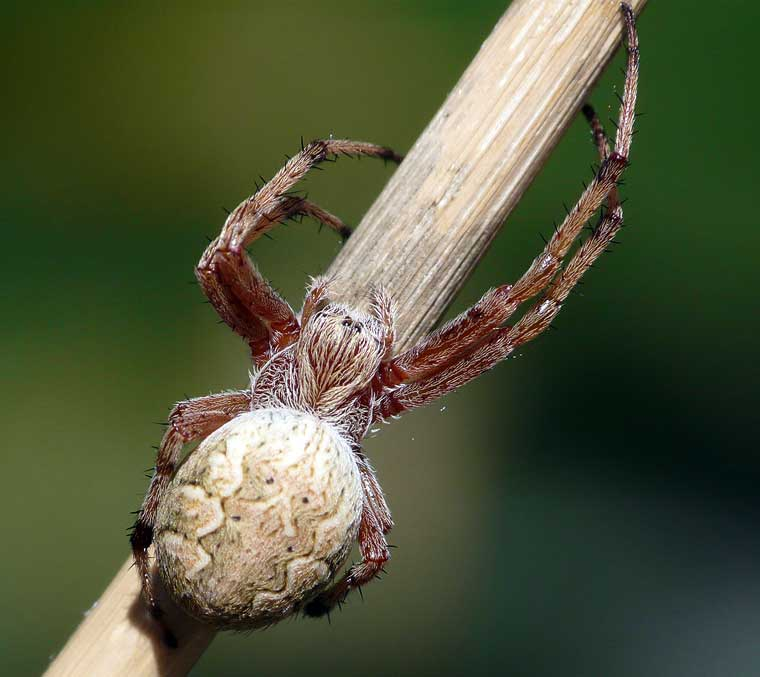spider: (124, 1, 667, 670)
